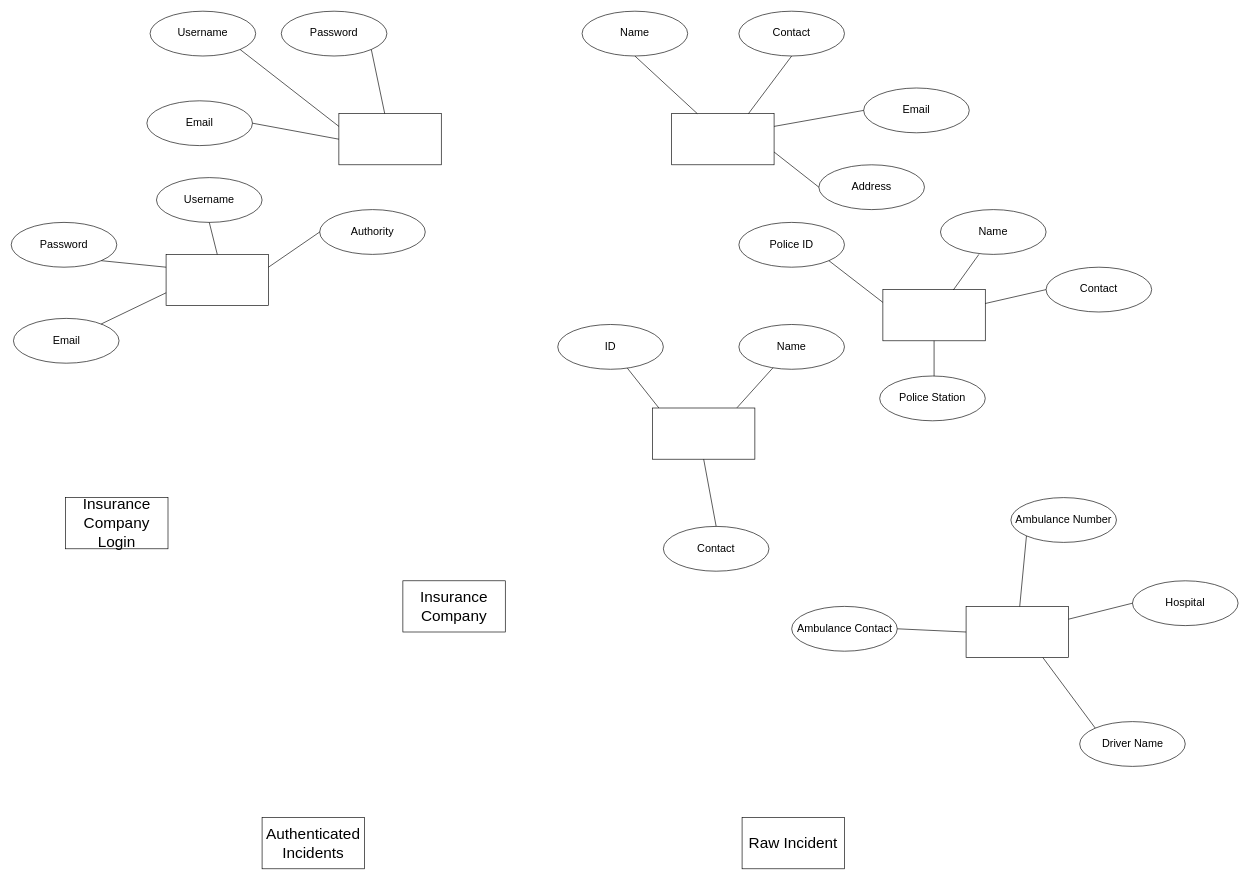
Image size: 1249x880. Some labels were removed from this diagram. The box of each missing label's shape, as (x1, y1, x2, y2) in pixels:
Ambulance: (965, 606, 1068, 658)
Authority Login: (165, 254, 268, 306)
Citizen: (671, 113, 774, 165)
Citizen Login: (338, 113, 441, 165)
Police: (882, 289, 985, 341)
Transport Authority: (652, 407, 755, 459)
